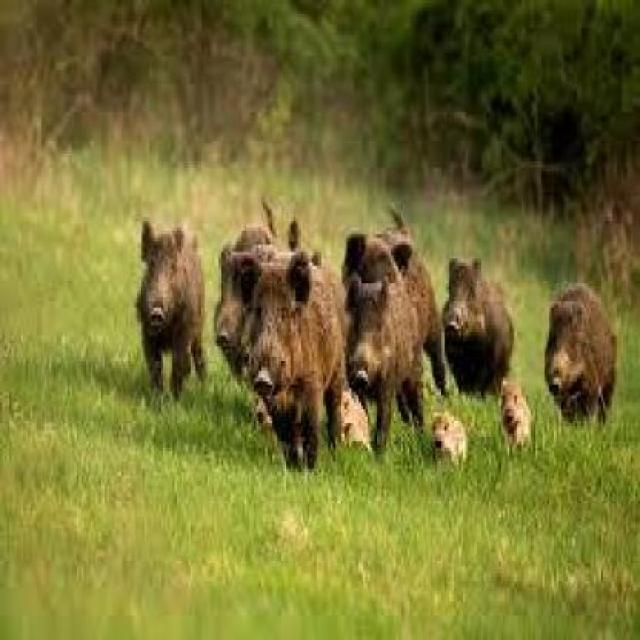wildboar: (224, 245, 351, 486), (343, 195, 452, 408), (128, 215, 214, 410), (333, 262, 421, 443), (203, 193, 279, 390), (434, 245, 518, 413), (542, 278, 624, 436), (322, 384, 380, 471), (422, 404, 476, 478), (494, 367, 535, 458), (248, 378, 288, 453)
